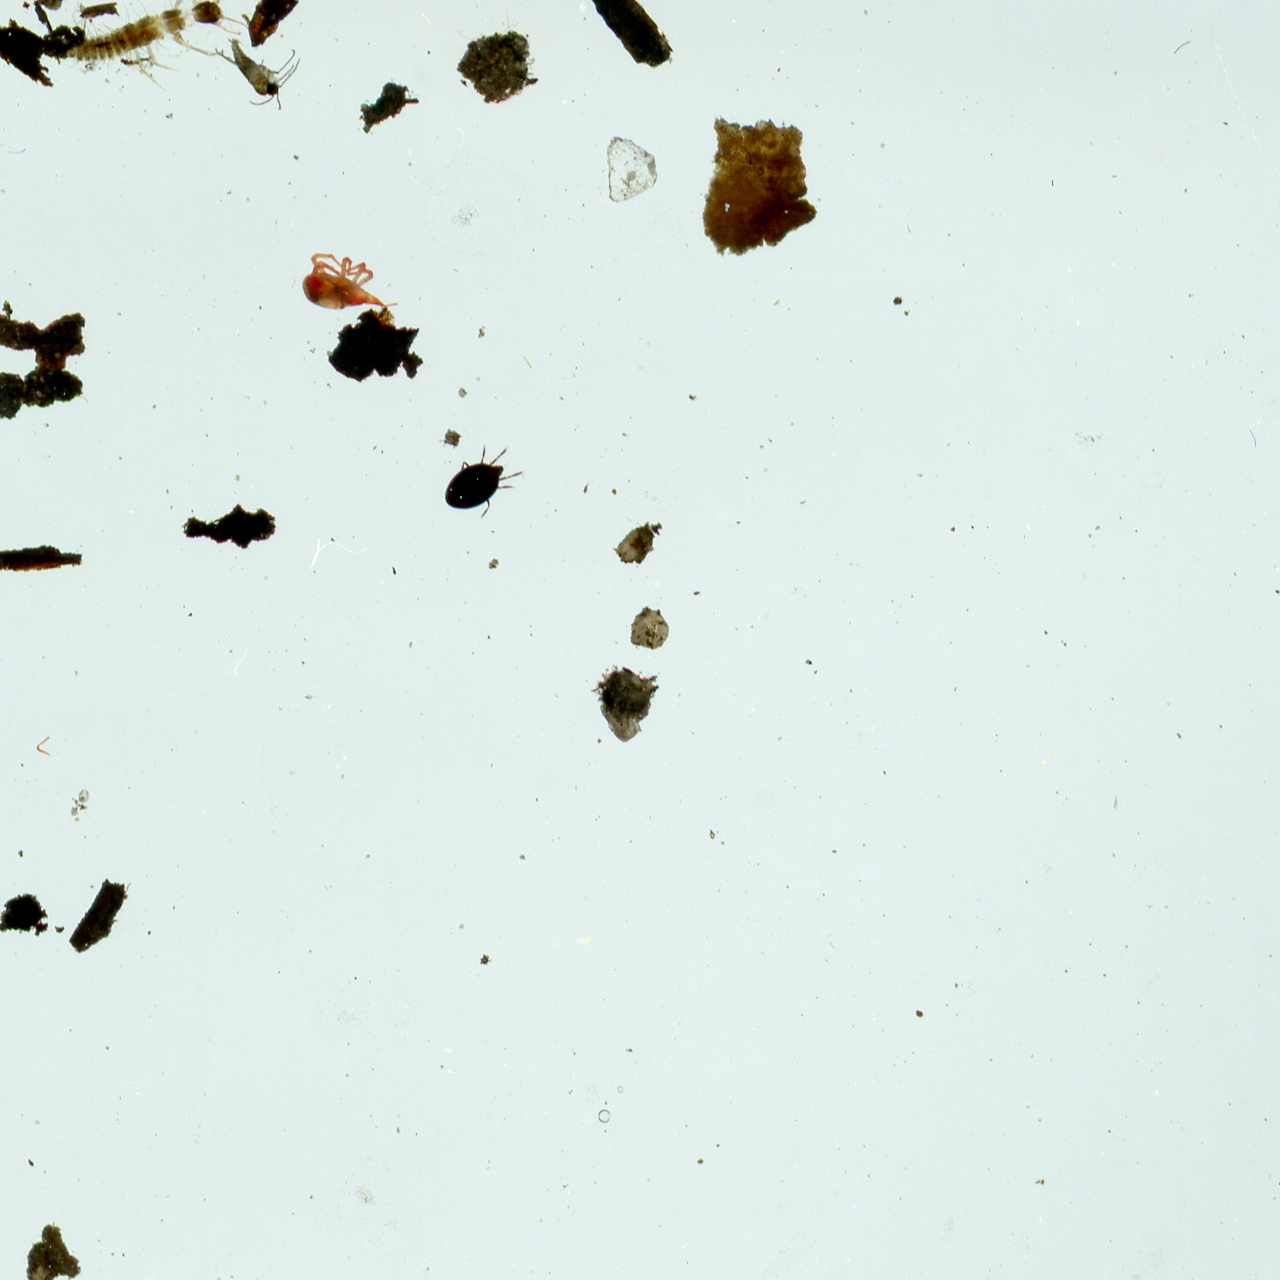arthropod: (14, 0, 241, 63), (300, 238, 396, 311), (220, 32, 311, 101), (444, 443, 522, 517)
